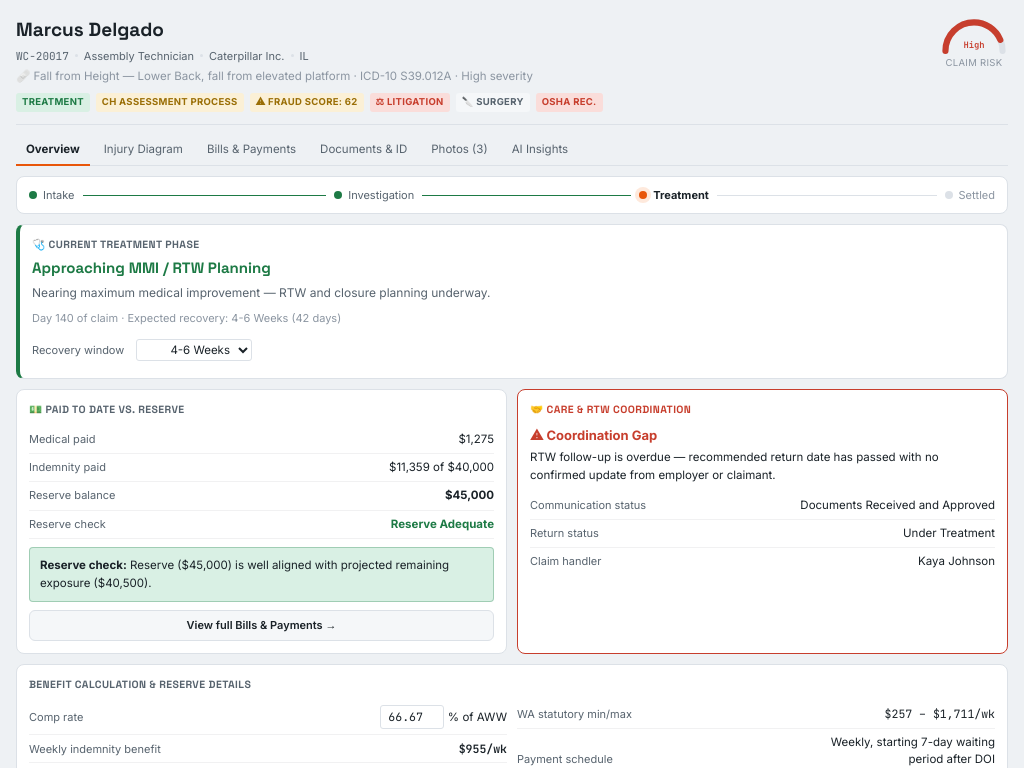
Test case: the grid renders one card per photo, with its caption and its source
Click the tab with test id "tab-photos" at (459, 150), box [421,134,498,166]
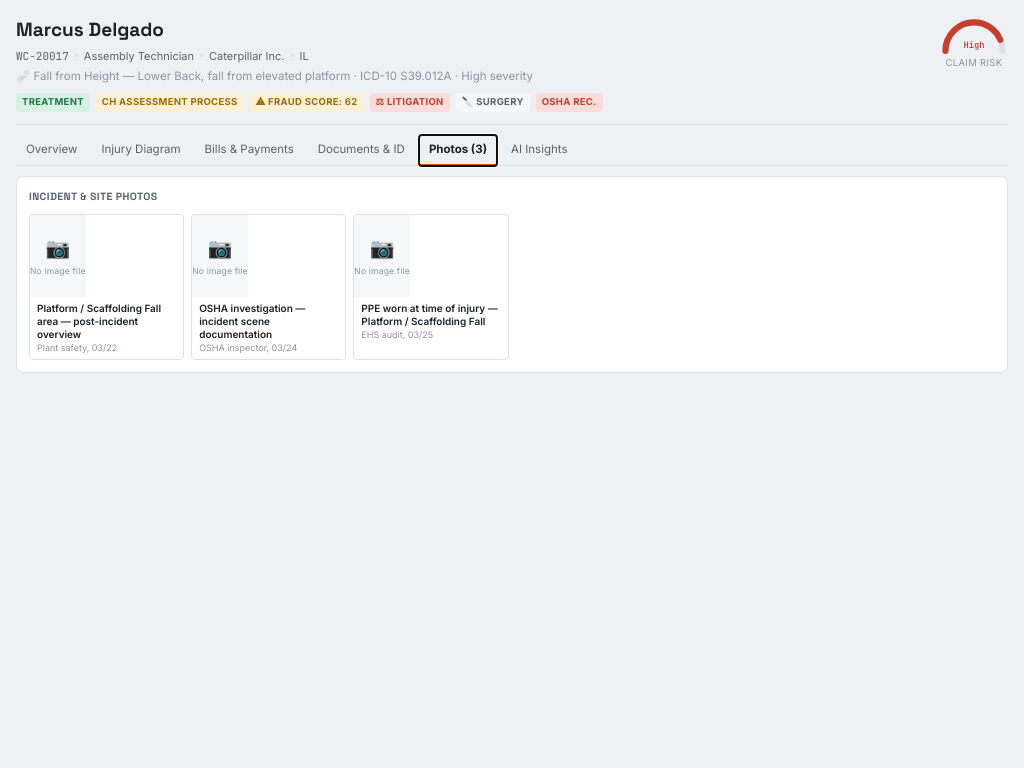
Expected: the number of buttons with test id "photo-card" is 3, [29,214,184,360]; [191,214,346,360]; [353,214,508,360]
Expected: the button with test id "photo-card" shows "Platform / Scaffolding Fall area — post-incident overview", [29,214,184,360]
Expected: the button with test id "photo-card" shows "OSHA investigation — incident scene documentation", [191,214,346,360]
